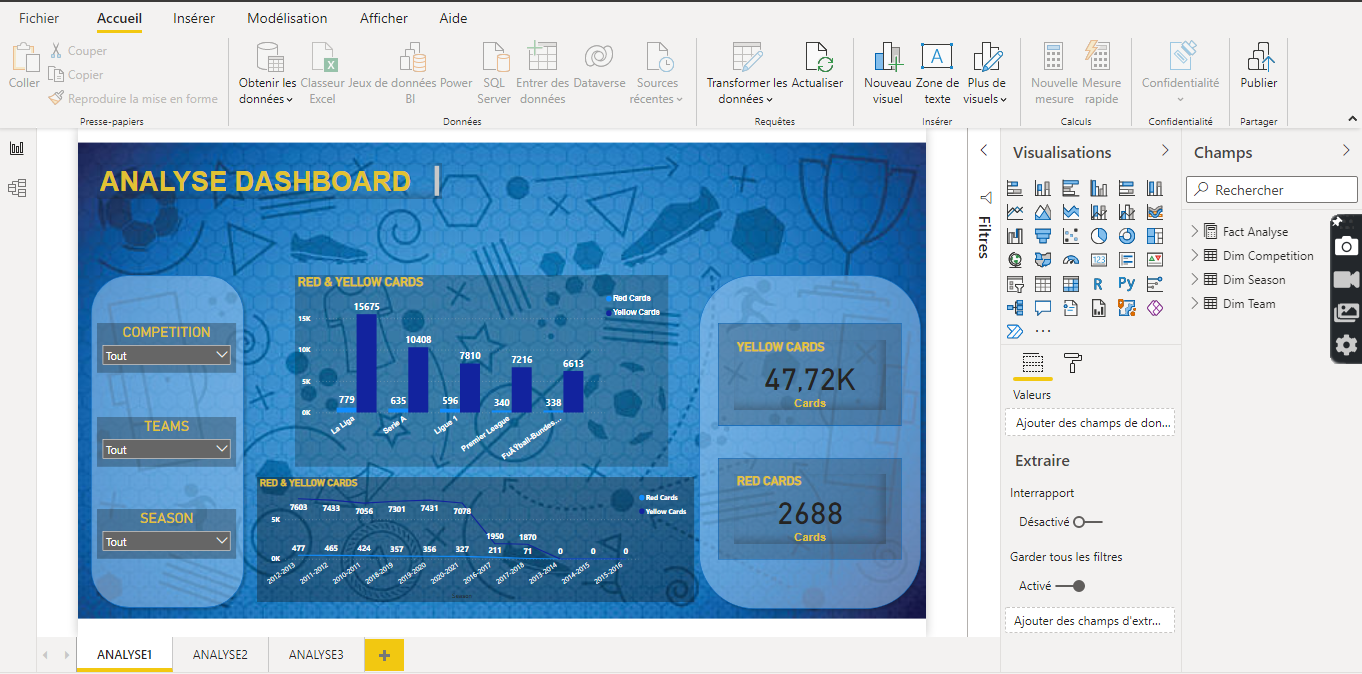

This screenshot's page, from the dashboard's own definition file:
{"tool":"powerbi","page":{"name":"ANALYSE1","canvas":[1500,900],"ordinal":0},"visuals":[{"type":"shape","box":[14.1,251.1,288.2,606.5],"z":0},{"type":"shape","box":[1089.2,251.1,410.2,608.3],"z":1000},{"type":"shape","box":[1131.6,583.5,325.3,180.4],"z":3000},{"type":"shape","box":[1131.6,344.8,325.3,182.1],"z":4000},{"type":"textbox","box":[33.6,61.9,610,63.7],"z":5000},{"type":"slicer","title":"COMPETITION","fields":{"Values":["Dim Competition.Competition"]},"box":[33.6,344.8,245.8,88.4],"z":6000},{"type":"slicer","title":"TEAMS","fields":{"Values":["Dim Team.Team"]},"box":[33.6,511,245.8,88.4],"z":7000},{"type":"slicer","title":"SEASON","fields":{"Values":["Dim Season.Season"]},"box":[33.6,673.7,245.8,88.4],"z":8000},{"type":"card","title":"YELLOW CARDS","fields":{"Values":["Fact Analyse.Yellow Cards"]},"box":[1159.9,374.9,268.8,123.8],"z":10000},{"type":"card","title":"RED CARDS","fields":{"Values":["Fact Analyse.Red Cards"]},"box":[1159.9,611.8,268.8,123.8],"z":11000},{"type":"clusteredColumnChart","title":"RED & YELLOW CARDS","fields":{"Category":["Dim Competition.Competition"],"Y":["Fact Analyse.Red Cards","Fact Analyse.Yellow Cards"]},"box":[383.7,259.9,659.5,339.5],"z":12000},{"type":"lineChart","title":"RED & YELLOW CARDS","fields":{"Y":["Fact Analyse.Red Cards","Fact Analyse.Yellow Cards"],"Category":["Dim Season.Season"]},"box":[316.5,617.1,772.7,221],"z":13000}]}

Visuals, with their boxes on the page's 1500x900 design canvas (x1, y1, x2, y2). These are canvas units, not pixel positions in the 1362x674 screenshot, which may show the page scaled, cropped or inside an application window:
shape: BBox(14, 251, 302, 858)
shape: BBox(1089, 251, 1499, 859)
shape: BBox(1132, 584, 1457, 764)
shape: BBox(1132, 345, 1457, 527)
textbox: BBox(34, 62, 644, 126)
"COMPETITION" slicer: BBox(34, 345, 279, 433)
"TEAMS" slicer: BBox(34, 511, 279, 599)
"SEASON" slicer: BBox(34, 674, 279, 762)
"YELLOW CARDS" card: BBox(1160, 375, 1429, 499)
"RED CARDS" card: BBox(1160, 612, 1429, 736)
"RED & YELLOW CARDS" clusteredColumnChart: BBox(384, 260, 1043, 599)
"RED & YELLOW CARDS" lineChart: BBox(316, 617, 1089, 838)
